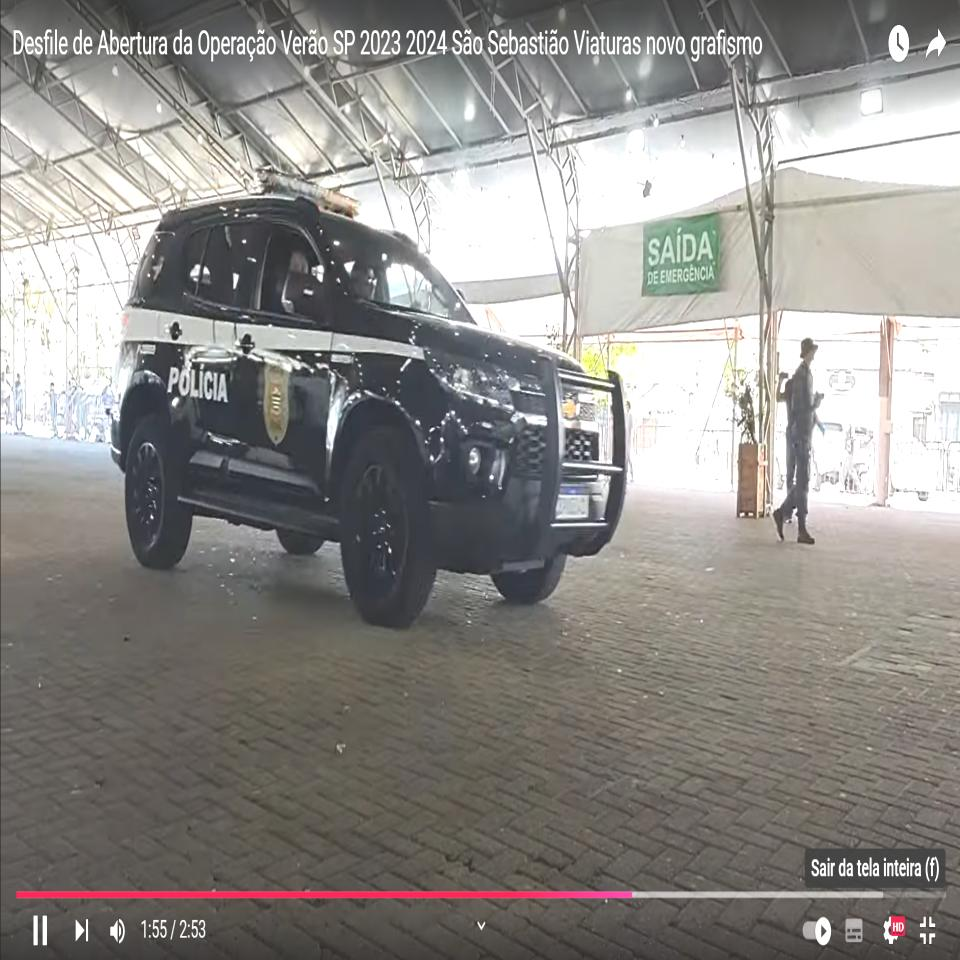viatura: (107, 166, 637, 631)
